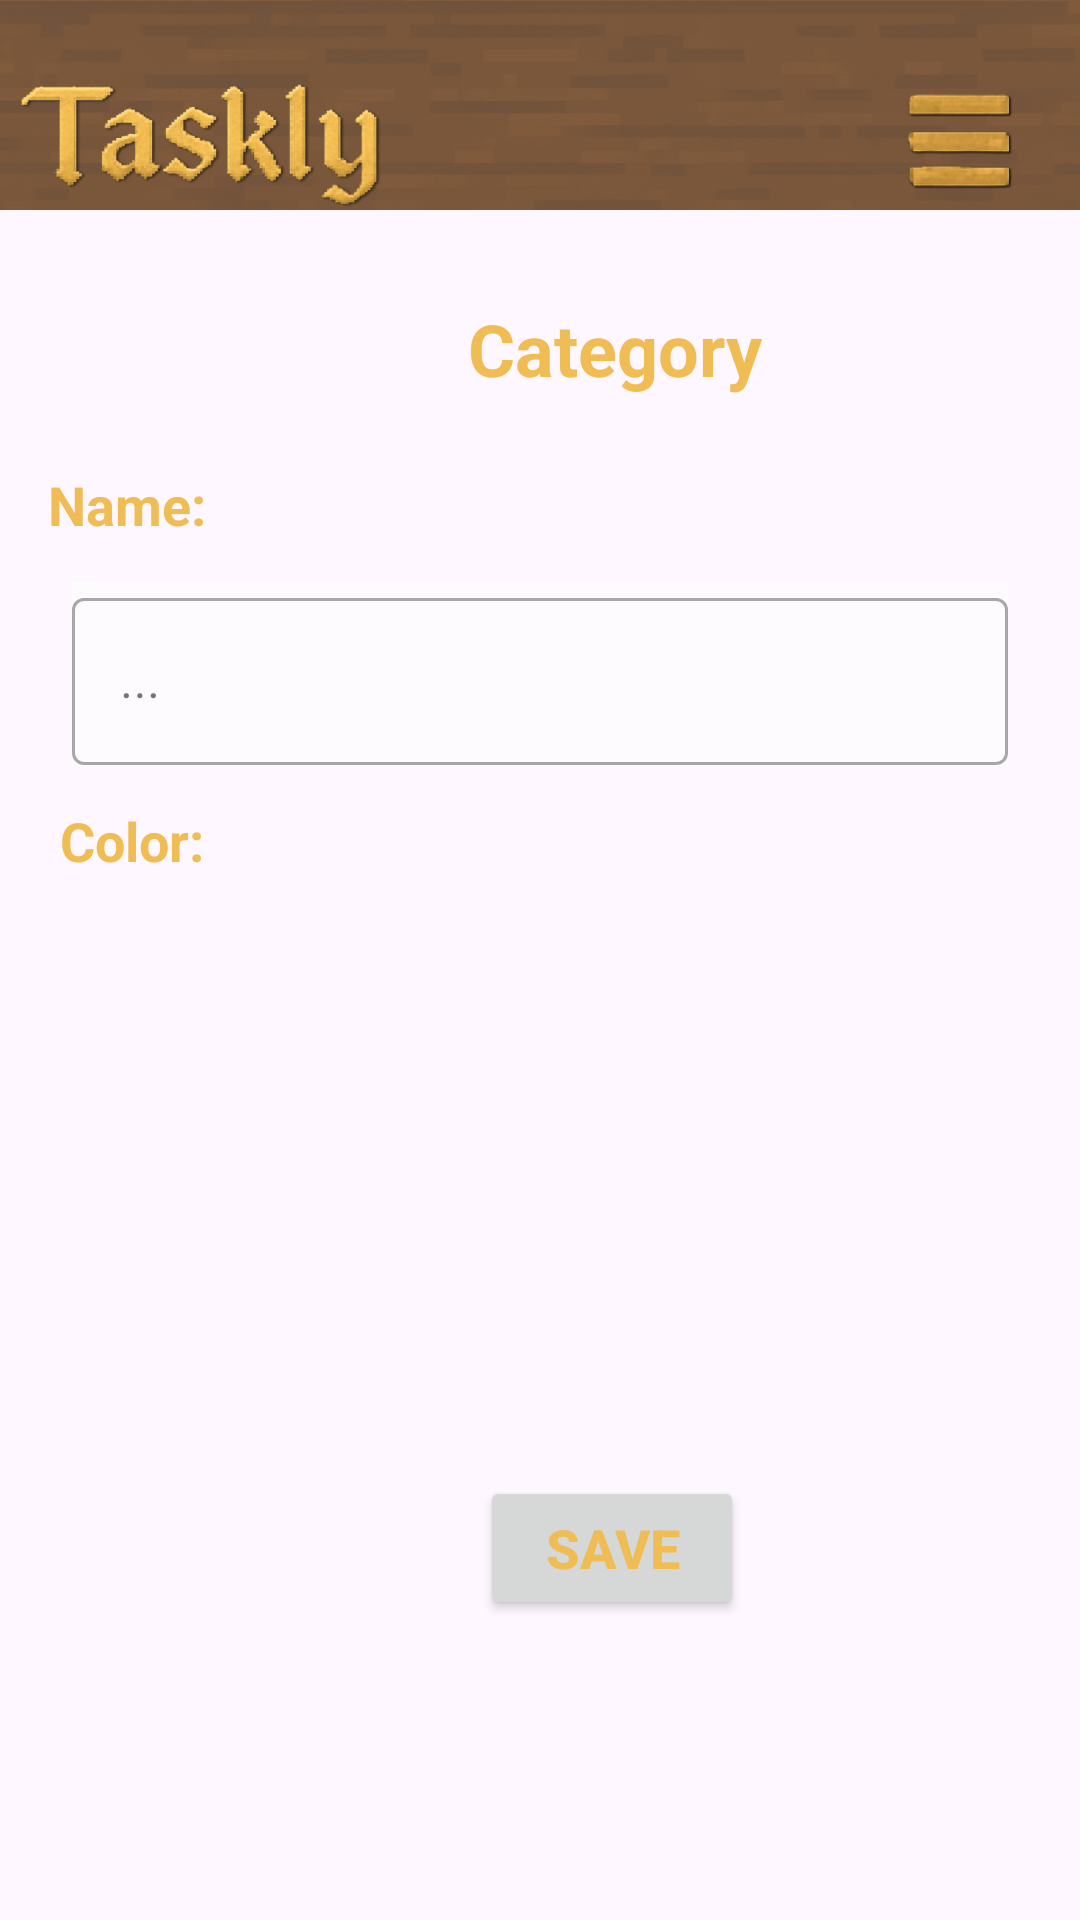

Locate icon controls on the screen. Image size 1080*1920, boxes as [left=x1, top=y1, right=x2, bottom=y2].
menu: [left=908, top=94, right=1012, bottom=188]
